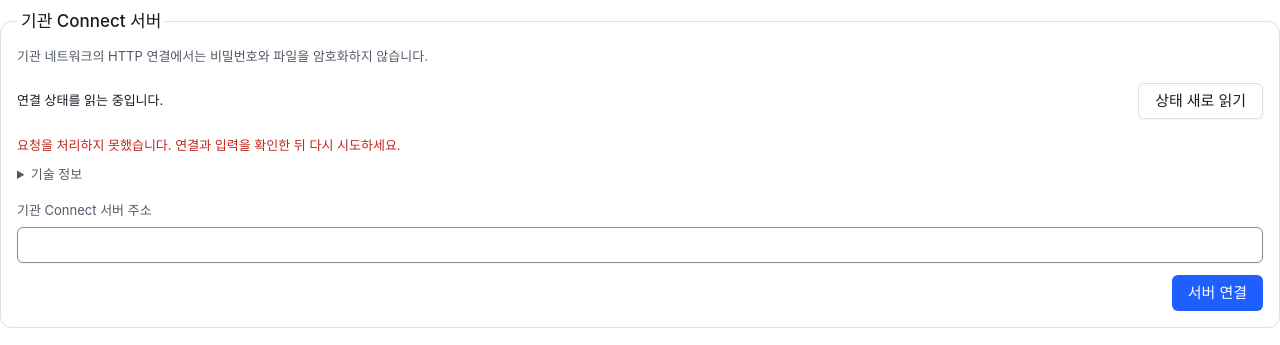
does not show admin controls for a member and keeps failures retryable
Expected: the message "요청을 처리하지 못했습니다. 연결과 입력을 확인한 뒤 다시 시도하세요. 기술 정보" is shown, [17,137,401,182]
Click the button "상태 새로 읽기".
click(1201, 101)  # box [1138,83,1263,119]
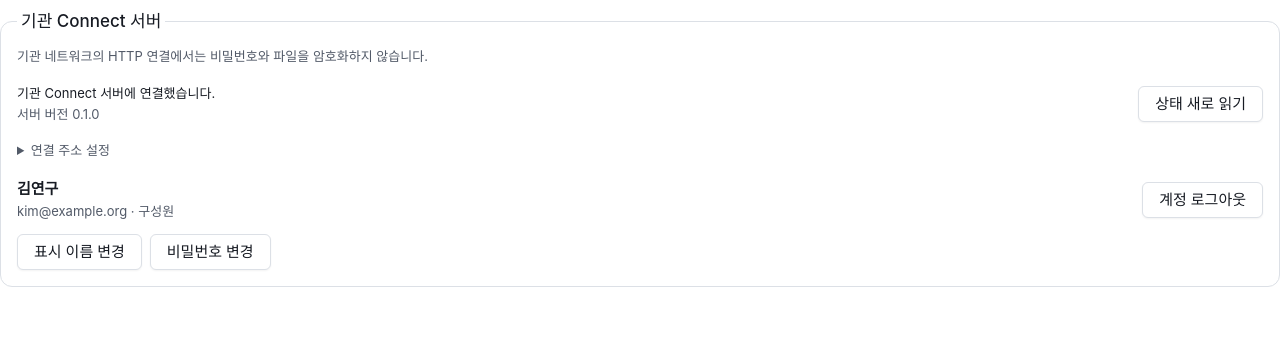
Now the text "김연구" is shown, box [17,179,58,198]
